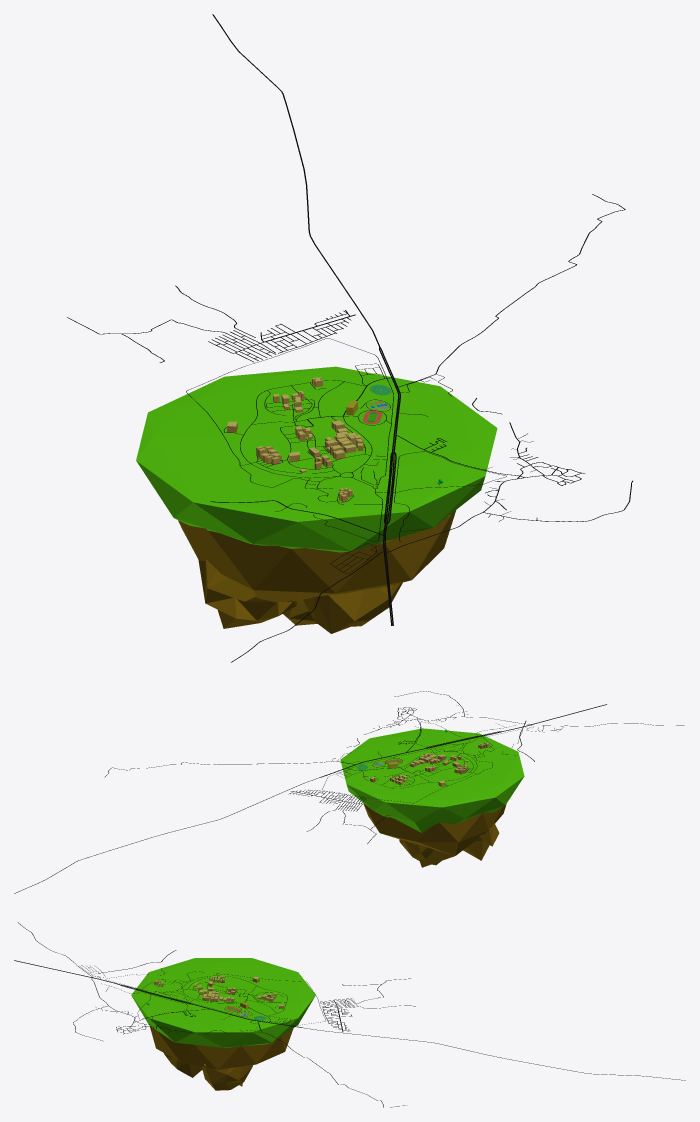
3 renders of one model, top to bottom at view 1: azimuth 30°, elevation 25°; view 2: azimuth 150°, elevation 25°; view 3: azimuth 270°, elevation 25°, orthographic. The views are drawn at different scales.
Parts seen in each view (by area): view 1: Icosphere.003, Icosphere.004, map.osm_roads_service, Icosphere.006, map.osm_roads_residential, Icosphere.005, map.osm_buildings, map.osm_roads_trunk, map.osm_roads_unclassified; view 2: Icosphere.003, Icosphere.004, map.osm_roads_residential, map.osm_roads_service, map.osm_buildings, map.osm_roads_trunk, Icosphere.006, Icosphere.008, map.osm_roads_unclassified; view 3: Icosphere.003, Icosphere.004, map.osm_roads_residential, map.osm_roads_service, Icosphere.008, map.osm_roads_trunk, map.osm_buildings, Icosphere.005, map.osm_roads_unclassified.
Boxes of the visible parts, x1,y1,x2,y2 form: Icosphere.003: [136, 366, 497, 552]; Icosphere.004: [178, 510, 456, 604]; map.osm_roads_service: [186, 338, 537, 574]; Icosphere.006: [198, 558, 297, 628]; map.osm_roads_residential: [67, 194, 625, 510]; Icosphere.005: [303, 582, 402, 633]; map.osm_buildings: [227, 377, 363, 502]; map.osm_roads_trunk: [212, 14, 400, 625]; map.osm_roads_unclassified: [231, 377, 632, 662]; Icosphere.003: [340, 728, 524, 844]; Icosphere.004: [363, 803, 506, 867]; map.osm_roads_residential: [104, 707, 456, 843]; map.osm_roads_service: [322, 705, 563, 803]; map.osm_buildings: [370, 742, 489, 786]; map.osm_roads_trunk: [14, 704, 606, 893]; Icosphere.006: [463, 823, 499, 860]; Icosphere.008: [399, 839, 441, 865]; map.osm_roads_unclassified: [347, 691, 684, 773]; Icosphere.003: [131, 958, 315, 1048]; Icosphere.004: [150, 1026, 293, 1086]; map.osm_roads_residential: [105, 978, 415, 1107]; map.osm_roads_service: [80, 965, 325, 1033]; Icosphere.008: [202, 1064, 252, 1090]; map.osm_roads_trunk: [14, 960, 685, 1080]; map.osm_buildings: [154, 975, 283, 1009]; Icosphere.005: [164, 1053, 202, 1077]; map.osm_roads_unclassified: [18, 922, 270, 1041].
Bounding box in the file's own units: 10954 × 2741 × 16760.
21 materials, 5 textured.
